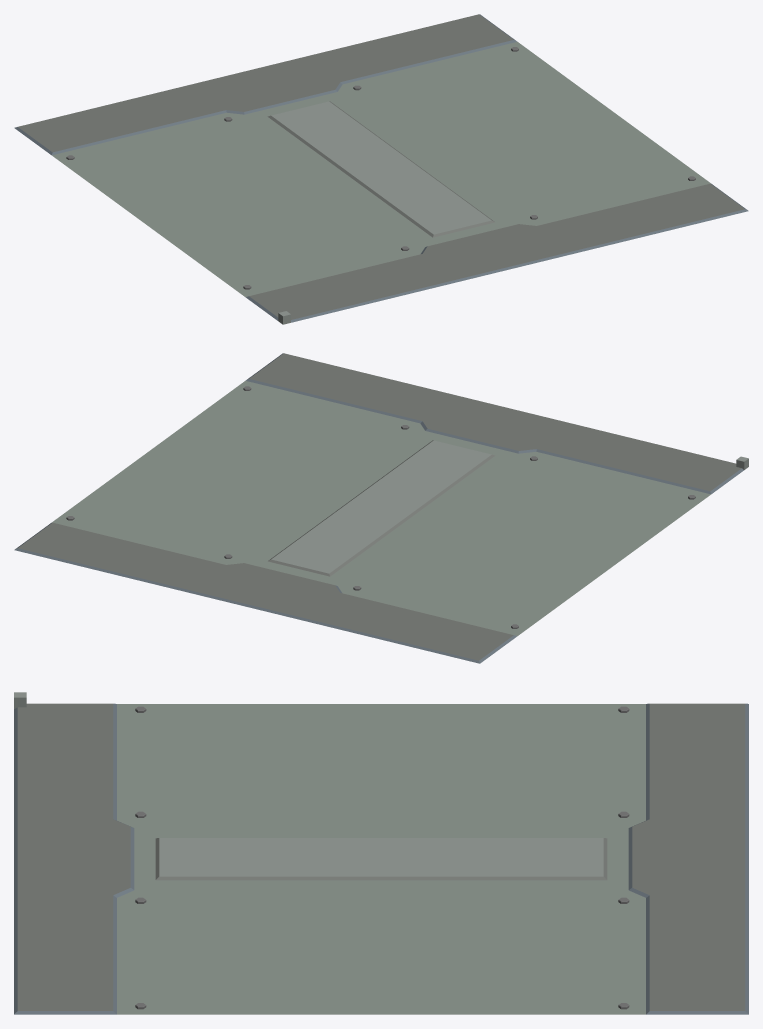
Rendered from OpenFork_B.gltf.
3 views of the same model, one above another, from view 1: azimuth 30°, elevation 25°; view 2: azimuth 150°, elevation 25°; view 3: azimuth 270°, elevation 25° (orthographic). The views are drawn at different scales.
Visible parts, largest first — view 1: Scifi_Panel_01 Plaza014_group4.040; view 2: Scifi_Panel_01 Plaza014_group4.040; view 3: Scifi_Panel_01 Plaza014_group4.040.
Part boxes in pixels (x1,y1,x2,y2): Scifi_Panel_01 Plaza014_group4.040: [14, 14, 748, 324]; Scifi_Panel_01 Plaza014_group4.040: [14, 353, 748, 663]; Scifi_Panel_01 Plaza014_group4.040: [14, 692, 748, 1014].
Bounding box in the file's own units: 10 × 0.1734 × 10.
Materials: 1 (1 with a texture image).
